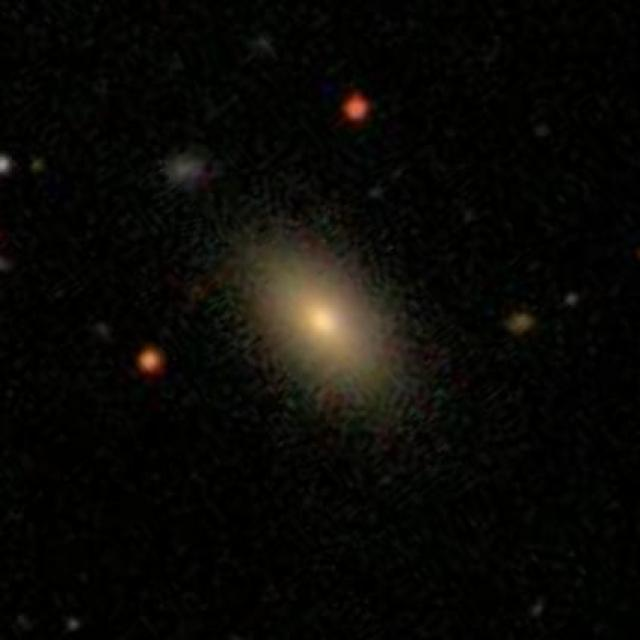galaxy: (199, 199, 445, 444), (152, 151, 212, 187), (337, 93, 373, 128), (136, 342, 169, 380), (508, 312, 536, 339), (61, 615, 80, 634), (1, 148, 12, 178), (29, 159, 47, 176), (564, 295, 581, 306)
